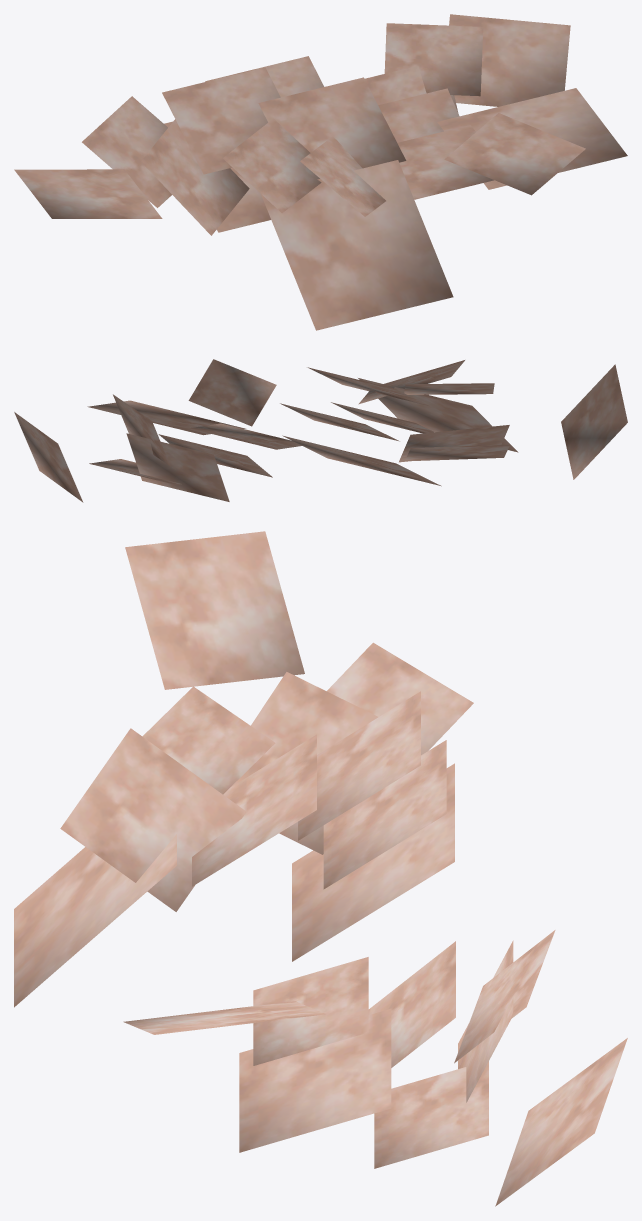
File: stg210_MotCloud_03.obj
3 renders of one model, top to bottom at view 1: azimuth 30°, elevation 25°; view 2: azimuth 150°, elevation 25°; view 3: azimuth 270°, elevation 25°, orthographic. The views are drawn at different scales.
Parts seen in each view (by area): view 1: polygon15, polygon5, polygon11, polygon14, polygon0, polygon7, polygon1, polygon17, polygon10, polygon8, polygon13, polygon2 (+5 smaller); view 2: polygon17, polygon6, polygon0, polygon15, polygon5, polygon10, polygon1, polygon9, polygon13, polygon2, polygon7, polygon3 (+6 smaller); view 3: polygon17, polygon16, polygon1, polygon15, polygon9, polygon12, polygon14, polygon4, polygon2, polygon11, polygon5, polygon8 (+6 smaller).
Boxes of the visible parts, left/top/right/bottom form: polygon15: left=261, top=160, right=453, bottom=330; polygon5: left=449, top=14, right=570, bottom=106; polygon11: left=258, top=77, right=406, bottom=168; polygon14: left=162, top=67, right=280, bottom=174; polygon0: left=444, top=113, right=585, bottom=195; polygon7: left=384, top=23, right=483, bottom=96; polygon1: left=437, top=88, right=627, bottom=189; polygon17: left=14, top=169, right=162, bottom=218; polygon10: left=141, top=119, right=249, bottom=235; polygon8: left=223, top=118, right=321, bottom=213; polygon13: left=82, top=96, right=171, bottom=207; polygon2: left=397, top=125, right=493, bottom=199; polygon17: left=561, top=364, right=627, bottom=479; polygon6: left=126, top=433, right=229, bottom=501; polygon0: left=188, top=359, right=276, bottom=426; polygon15: left=358, top=378, right=518, bottom=452; polygon5: left=14, top=412, right=83, bottom=502; polygon10: left=399, top=425, right=509, bottom=462; polygon1: left=87, top=400, right=245, bottom=435; polygon9: left=282, top=435, right=441, bottom=486; polygon13: left=405, top=444, right=510, bottom=461; polygon2: left=189, top=423, right=301, bottom=449; polygon7: left=113, top=394, right=170, bottom=466; polygon3: left=158, top=434, right=272, bottom=477; polygon17: left=125, top=531, right=304, bottom=689; polygon16: left=60, top=728, right=246, bottom=911; polygon1: left=239, top=1009, right=391, bottom=1152; polygon15: left=14, top=834, right=176, bottom=1007; polygon9: left=292, top=763, right=454, bottom=961; polygon12: left=323, top=740, right=446, bottom=889; polygon14: left=298, top=691, right=420, bottom=840; polygon4: left=374, top=1061, right=488, bottom=1168; polygon2: left=253, top=957, right=368, bottom=1065; polygon11: left=192, top=734, right=316, bottom=886; polygon5: left=495, top=1038, right=627, bottom=1206; polygon8: left=142, top=686, right=275, bottom=794.
Bounding box in the file's own units: 3453 × 895 × 1933.
1 material, 1 textured.
